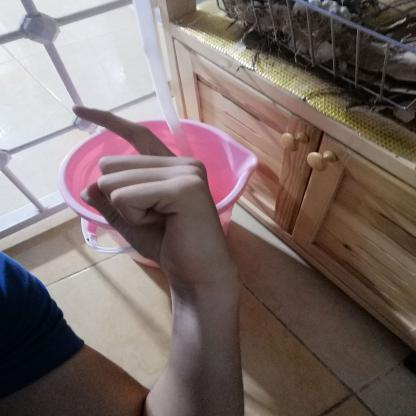RAA: (59, 98, 247, 286)
